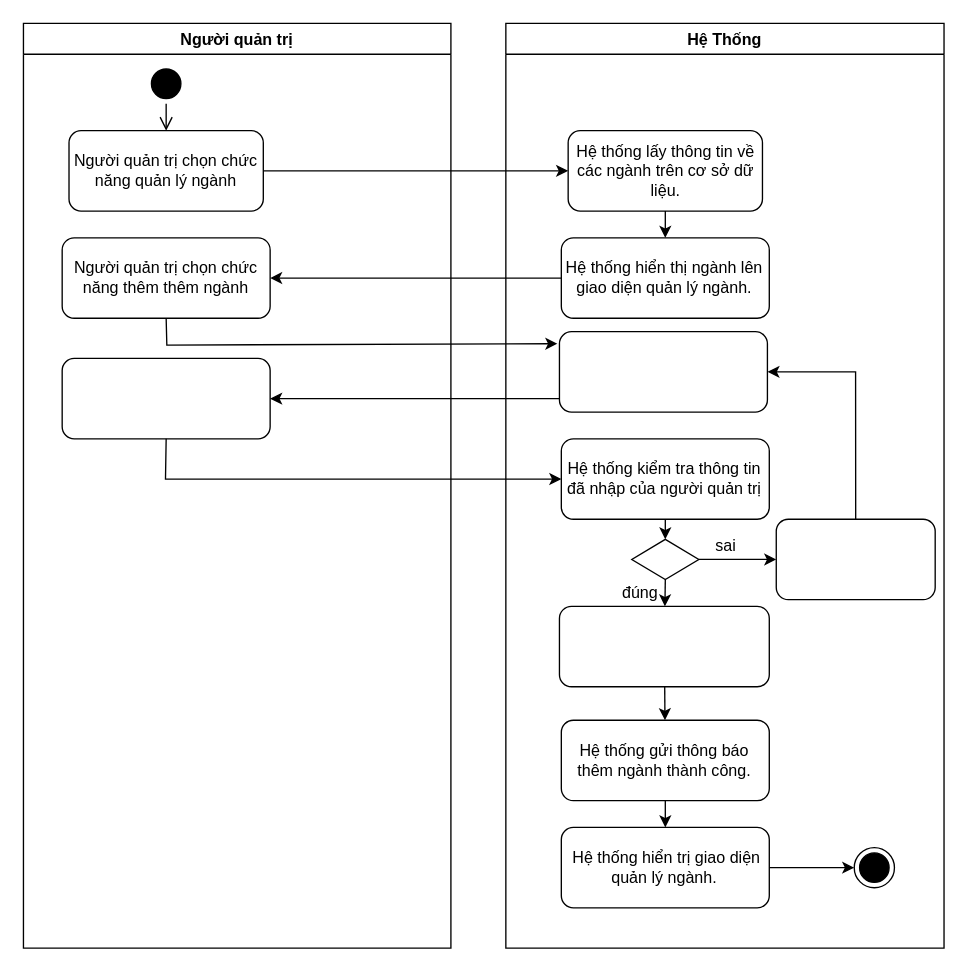
The diagram is 967 pixels wide and 972 high, and some of its shapes have lost their labels. The shapes that lost their labels are listed below. From the top down, each one's centre as x and y in pixels, then its label:
(x=662, y=371): Hệ thống hiển thị giao diện thêm ngành.
(x=165, y=398): Người quản trị điền thông tin cần thiết cho ngành và nhấn thêm.
(x=664, y=559): Đủ
(x=855, y=559): Hệ thống thông báo đã nhập thiếu thông tin bắt buộc
(x=663, y=646): Hệ thống lưu thông tin ngành lên cơ sở dữ liệu.
